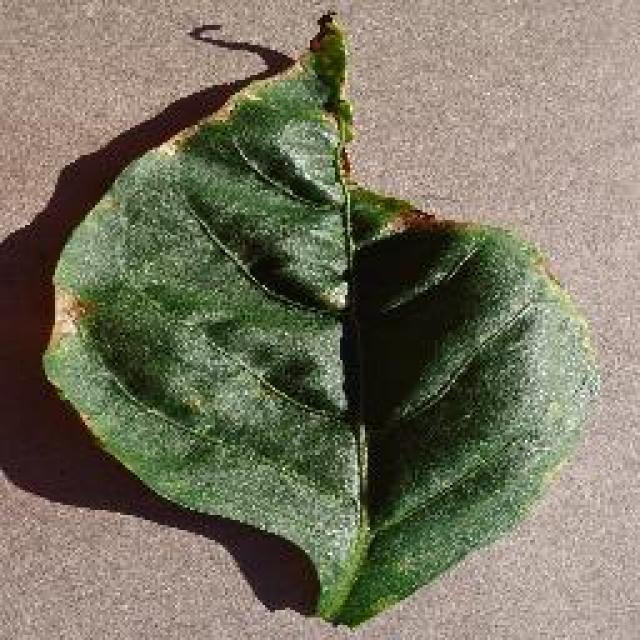Chilli_Bacterial_Spot: (37, 8, 605, 628), (42, 280, 100, 353), (302, 7, 350, 95), (302, 5, 340, 55), (312, 5, 340, 33), (305, 27, 327, 55)
